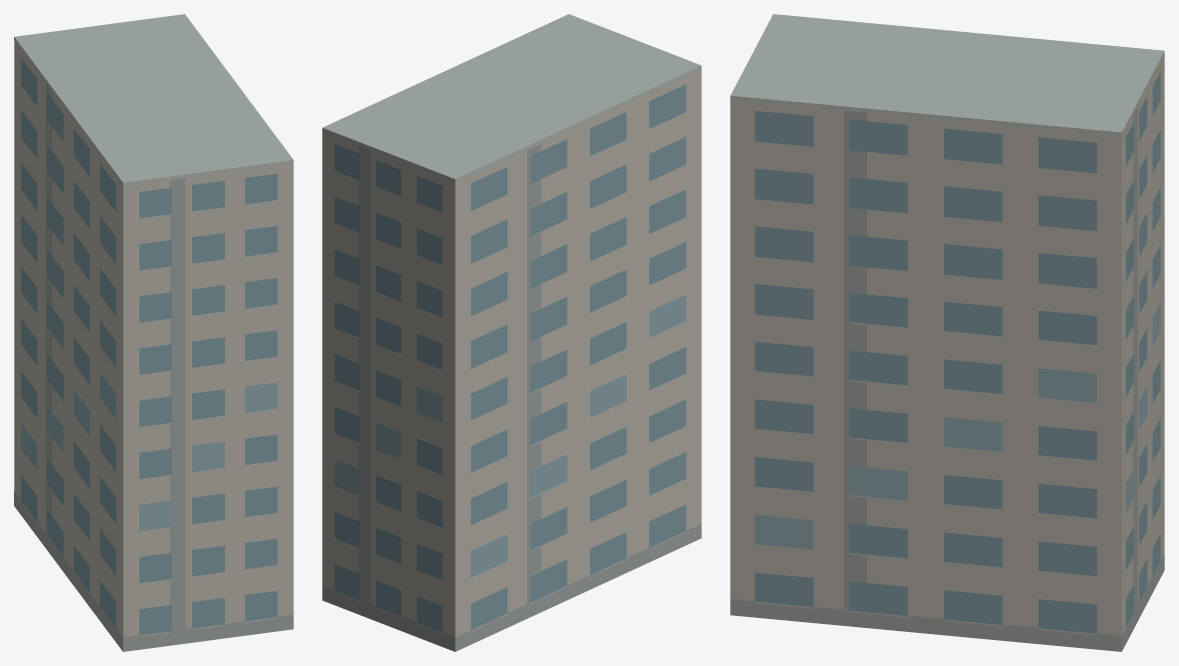
Rendered from residential-4443e3d7-3e83-4699-80e5-aa4369cde071.glb.
The picture shows the model from 3 angles, left to right: view 1: azimuth 30°, elevation 25°; view 2: azimuth 150°, elevation 25°; view 3: azimuth 270°, elevation 25°; orthographic projection. The views are drawn at different scales.
Parts seen in each view (by area): view 1: residential-4443e3d7-3e83-4699-80e5-aa4369cde071.tmp; view 2: residential-4443e3d7-3e83-4699-80e5-aa4369cde071.tmp; view 3: residential-4443e3d7-3e83-4699-80e5-aa4369cde071.tmp.
Boxes of the visible parts, <box> form: residential-4443e3d7-3e83-4699-80e5-aa4369cde071.tmp: <box>14,14,293,651</box>; residential-4443e3d7-3e83-4699-80e5-aa4369cde071.tmp: <box>322,14,701,651</box>; residential-4443e3d7-3e83-4699-80e5-aa4369cde071.tmp: <box>730,14,1164,651</box>.
Size of the model in its own units: 14.19 by 29 by 21.99.
